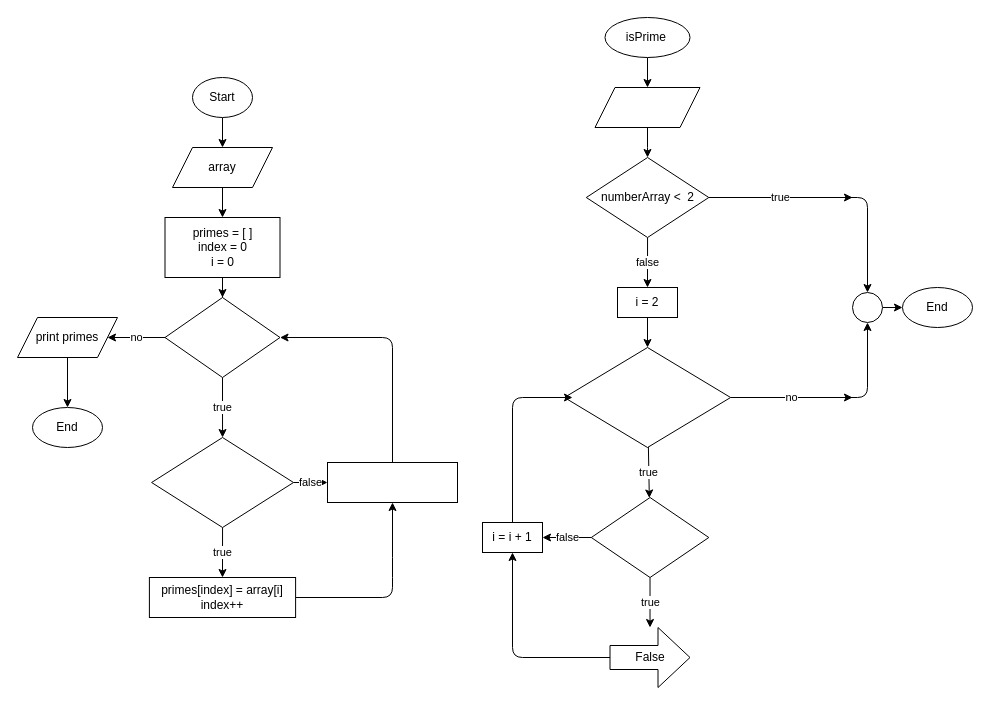
The diagram is 990 pixels wide and 705 high, and some of its shapes have lost their labels. The shapes that lost their labels are listed below. From the top down, each one's centre as x and y in pixels, then its label:
At (x=647, y=107): "numberArray".
At (x=222, y=337): "i < array.length".
At (x=647, y=397): "i <= Math.sqrt(numArr)".
At (x=222, y=482): "isPrime(array[ i ] ) ?".
At (x=392, y=482): "n = (n - (n % 10)) / 10".
At (x=649, y=537): "numArr % i == 0".
